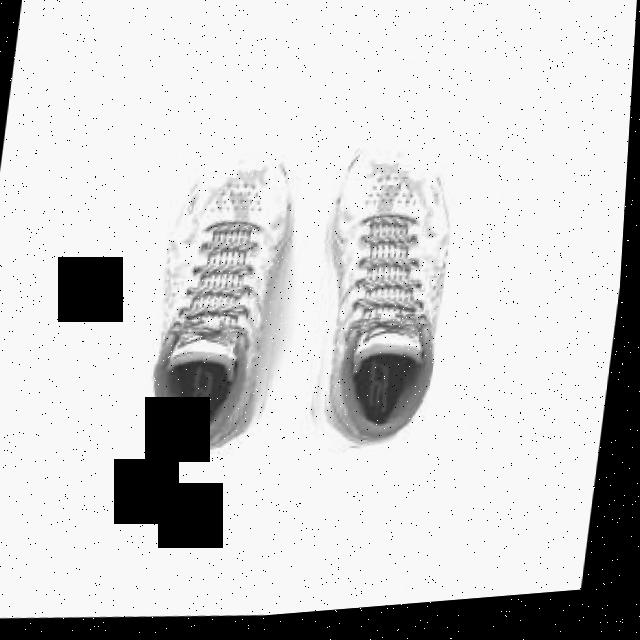shoe: (301, 140, 464, 462), (147, 138, 306, 460)
